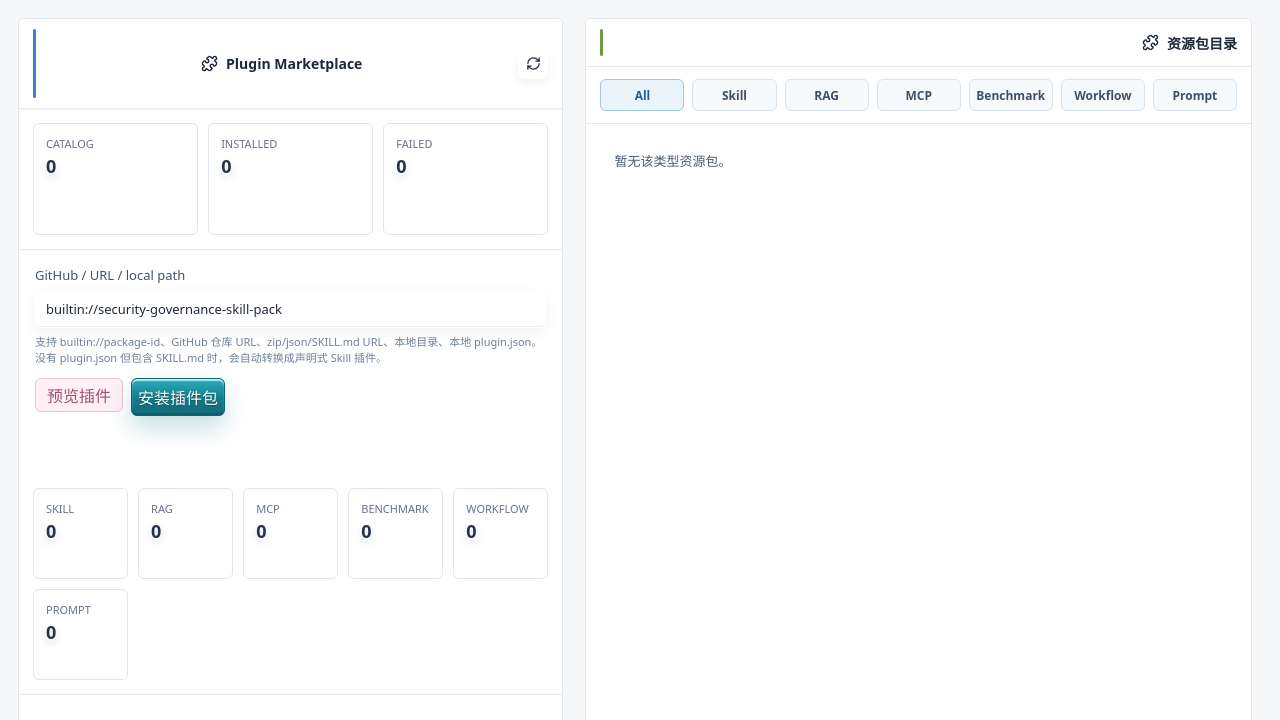
MarketplacePage › shows a page-visible error when installation fails
Click the button "安装插件包" at (178, 397), box [131,378,225,416]
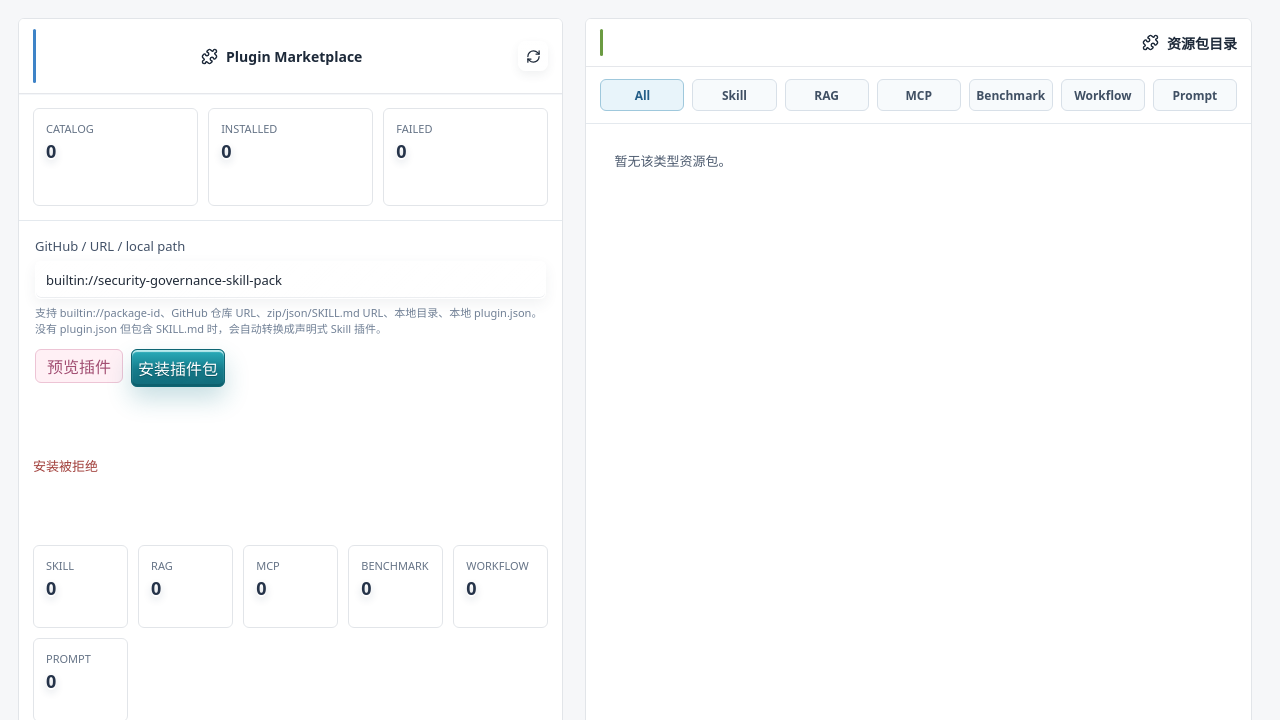
Expected: the text "安装被拒绝" is shown, [33,457,98,475]
